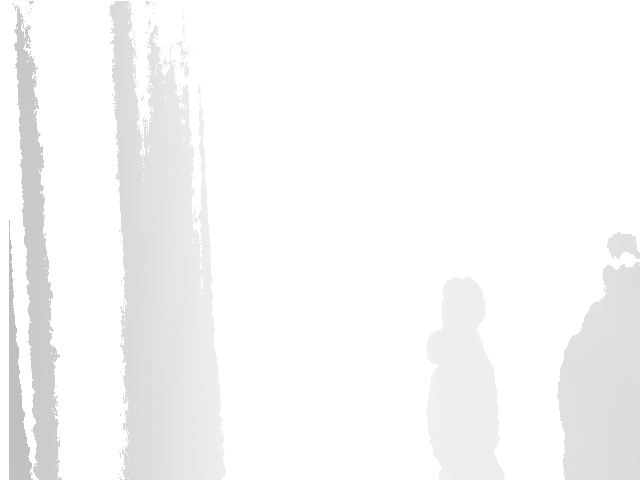head: (599, 233, 640, 298), (440, 277, 487, 326)
person: (556, 233, 640, 480), (425, 277, 508, 480)
